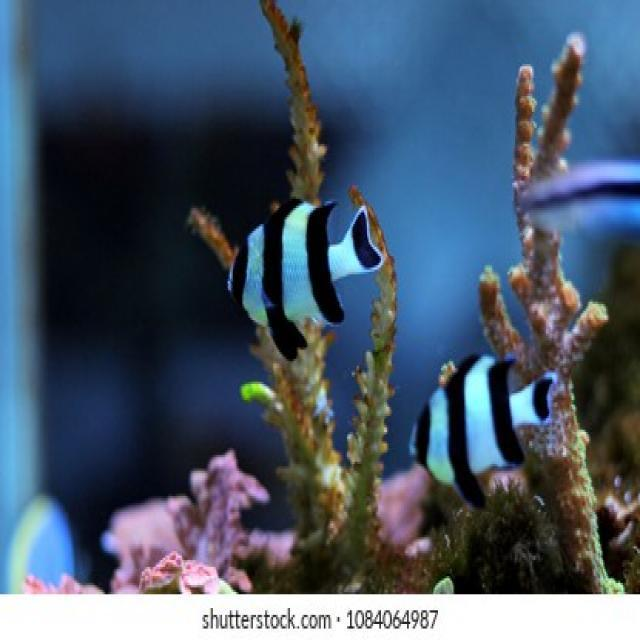Three_striped DasmselFish: (226, 198, 384, 362), (410, 352, 556, 512)
